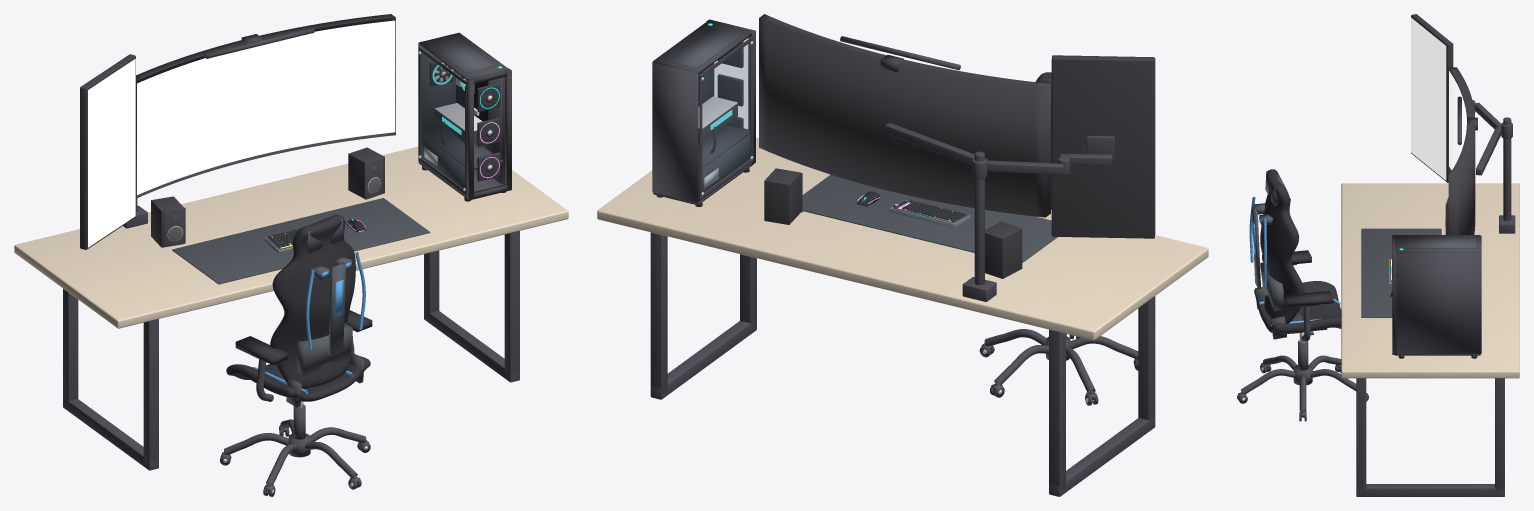
The model's file is pc_setup.glb.
3 renders of one model, left to right at view 1: azimuth 30°, elevation 25°; view 2: azimuth 150°, elevation 25°; view 3: azimuth 270°, elevation 25°, orthographic. The views are drawn at different scales.
Parts seen in each view (by area): view 1: Tabletop, Screen_Ultrawide, Gaming_Chair, Desk_Legs, PC_Chassis, Screen_Vertical, Desk_Mat, PC_Glass_Panel, Monitor_Ultrawide, Monitor_Vertical, Speaker_Right, Speaker_Left (+3 smaller); view 2: Monitor_Ultrawide, Tabletop, Monitor_Vertical, Desk_Legs, PC_Chassis, Desk_Mat, PC_Glass_Panel, Monitor_Mount_Arm, Gaming_Chair, Speaker_Right, Speaker_Left, PC_Glass_Frame (+4 smaller); view 3: Tabletop, Gaming_Chair, PC_Chassis, Screen_Vertical, Desk_Legs, Desk_Mat, Monitor_Ultrawide, Monitor_Mount_Arm, Screen_Ultrawide, Monitor_Vertical, ScreenBar.
Boxes of the visible parts, <box> form: Tabletop: <box>14,146,568,328</box>; Screen_Ultrawide: <box>137,20,395,194</box>; Gaming_Chair: <box>220,214,372,496</box>; Desk_Legs: <box>63,231,519,470</box>; PC_Chassis: <box>418,32,511,201</box>; Screen_Vertical: <box>88,59,135,247</box>; Desk_Mat: <box>172,198,430,284</box>; PC_Glass_Panel: <box>421,53,464,188</box>; Monitor_Ultrawide: <box>136,14,395,198</box>; Monitor_Vertical: <box>80,54,135,249</box>; Speaker_Right: <box>348,147,384,199</box>; Speaker_Left: <box>151,196,185,247</box>; Monitor_Ultrawide: <box>759,14,1050,217</box>; Tabletop: <box>597,137,1208,340</box>; Monitor_Vertical: <box>1051,55,1155,238</box>; Desk_Legs: <box>650,232,1155,496</box>; PC_Chassis: <box>652,19,755,206</box>; Desk_Mat: <box>802,174,1057,262</box>; PC_Glass_Panel: <box>702,43,750,192</box>; Monitor_Mount_Arm: <box>885,123,1114,301</box>; Gaming_Chair: <box>979,72,1138,405</box>; Speaker_Right: <box>764,168,802,224</box>; Speaker_Left: <box>985,221,1022,278</box>; PC_Glass_Frame: <box>699,36,753,199</box>; Tabletop: <box>1341,183,1519,378</box>; Gaming_Chair: <box>1237,169,1368,421</box>; PC_Chassis: <box>1392,235,1481,358</box>; Screen_Vertical: <box>1411,17,1446,180</box>; Desk_Legs: <box>1356,378,1504,496</box>; Desk_Mat: <box>1361,228,1441,317</box>; Monitor_Ultrawide: <box>1448,67,1475,234</box>; Monitor_Mount_Arm: <box>1472,100,1515,233</box>; Screen_Ultrawide: <box>1449,71,1466,169</box>; Monitor_Vertical: <box>1411,14,1453,182</box>; ScreenBar: <box>1457,96,1477,144</box>.
Bounding box in the file's own units: 2.45 × 1.91 × 1.55.
